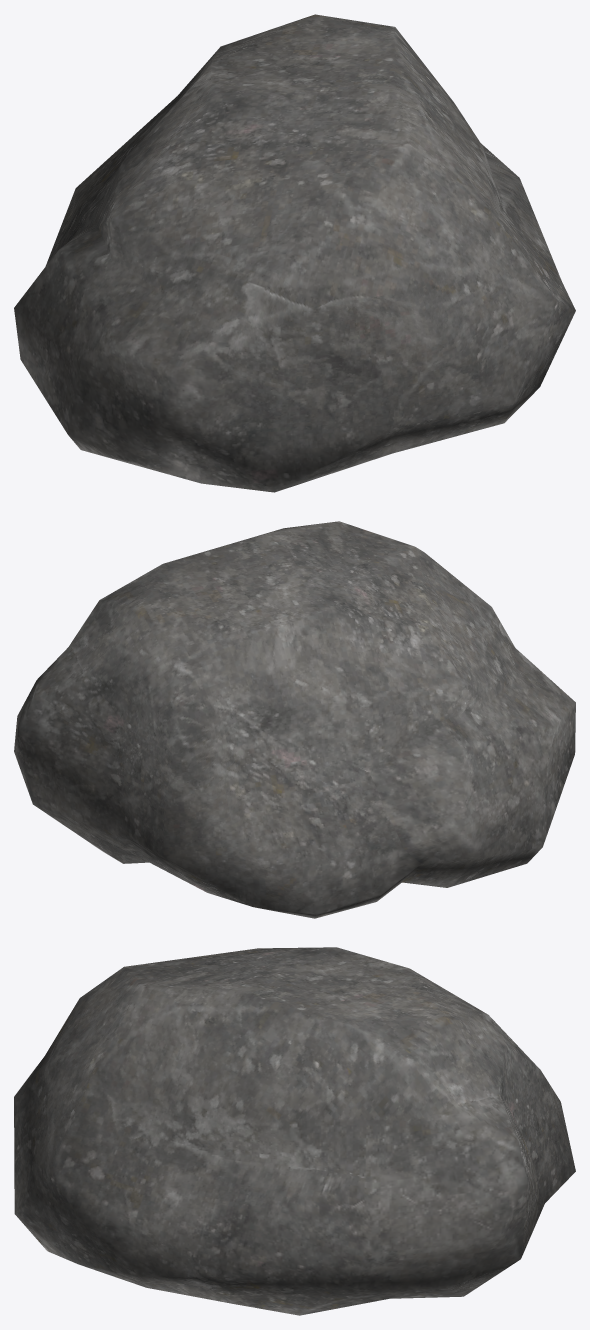
File: objects_un_a_w23rock01_01_l2.gltf
3 renders of one model, top to bottom at view 1: azimuth 30°, elevation 25°; view 2: azimuth 150°, elevation 25°; view 3: azimuth 270°, elevation 25°, orthographic. The views are drawn at different scales.
Visible parts, largest first — view 1: um_objects_un_a_w23rock01_01_l2_model_lod0Shape:objects_un_a; view 2: um_objects_un_a_w23rock01_01_l2_model_lod0Shape:objects_un_a; view 3: um_objects_un_a_w23rock01_01_l2_model_lod0Shape:objects_un_a.
Boxes of the visible parts, x1,y1,x2,y2 form: um_objects_un_a_w23rock01_01_l2_model_lod0Shape:objects_un_a: (14,14,575,492); um_objects_un_a_w23rock01_01_l2_model_lod0Shape:objects_un_a: (14,521,575,918); um_objects_un_a_w23rock01_01_l2_model_lod0Shape:objects_un_a: (14,947,575,1315).
Size of what is drawn, in the model's own units: 4.83 by 2.75 by 4.91.
Materials: 2 (1 with a texture image).
